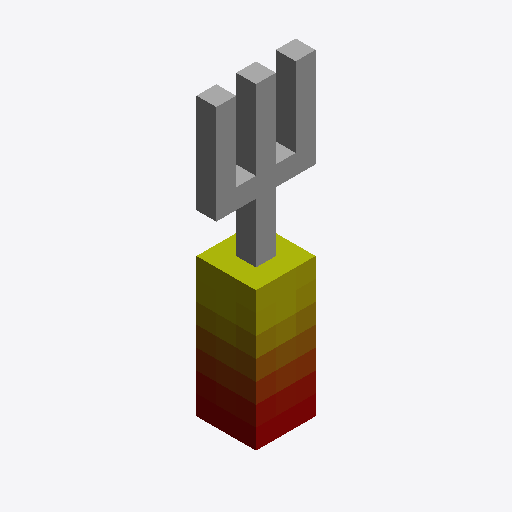
Isometric view (azimuth 45°, elevation 35.3°) of a Minecraft model made of 41 cuboids, textured from the same repository.
Visible parts, largest first — element 1, element 2, element 4, element 5, element 3, element 6.
Boxes of the visible parts, <box> form: element 1: <box>196,233,315,449</box>; element 2: <box>236,62,275,266</box>; element 4: <box>196,84,235,198</box>; element 5: <box>276,39,315,152</box>; element 3: <box>196,165,255,221</box>; element 6: <box>276,141,315,186</box>.
Size of the model in its own units: 5 by 16 by 5.